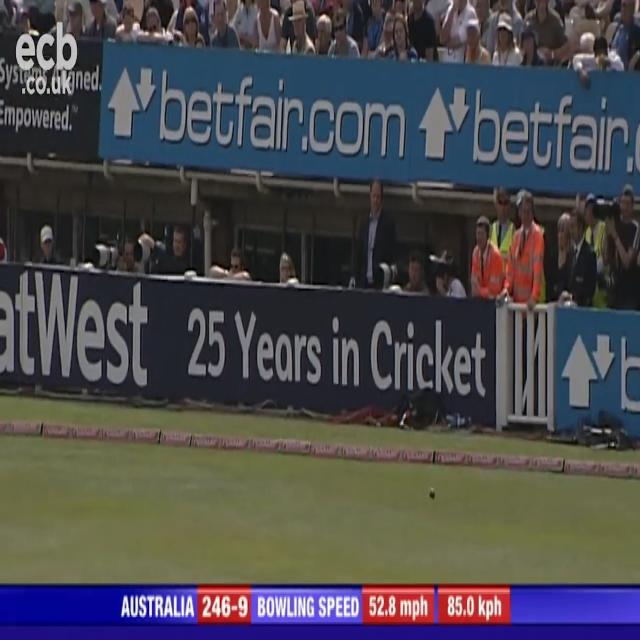ball: (427, 486, 437, 504)
